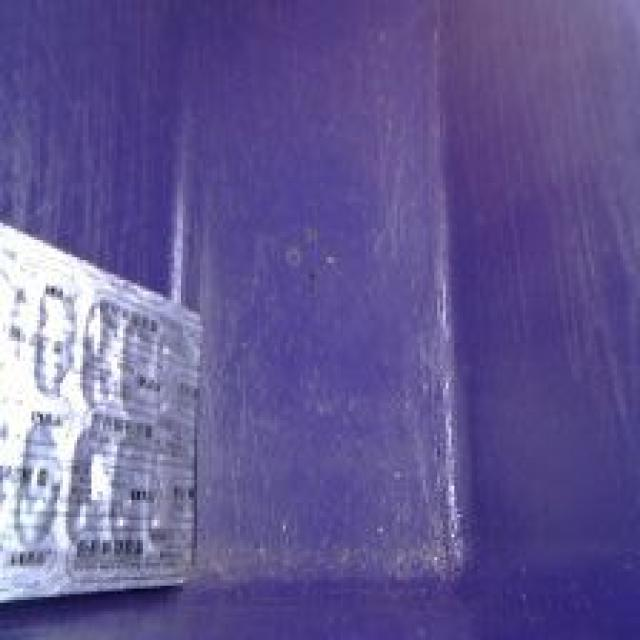med_plate: (0, 204, 213, 606)
